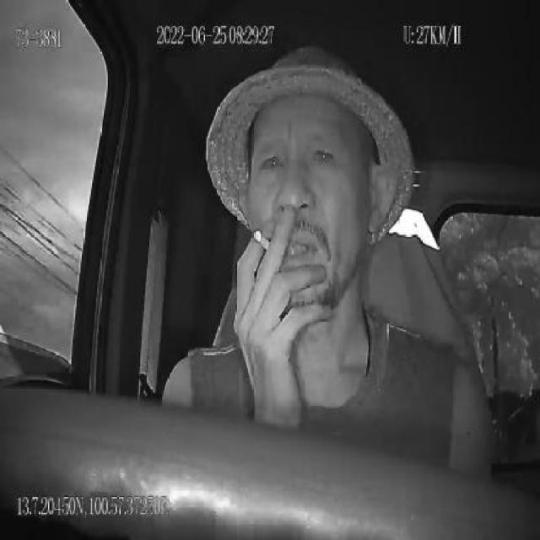smoking: (252, 226, 271, 254)
